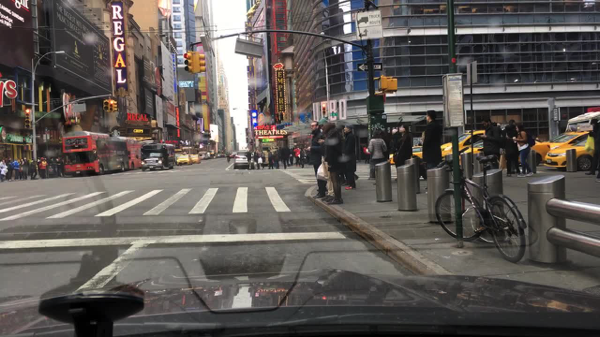bike: (227, 156, 230, 163)
bus: (62, 132, 141, 176)
car: (457, 136, 550, 170), (543, 132, 594, 170), (435, 129, 486, 156), (541, 132, 582, 150), (563, 112, 599, 131), (387, 146, 425, 164), (234, 151, 252, 170), (177, 151, 191, 165), (199, 151, 209, 159), (190, 156, 201, 163), (215, 153, 225, 158), (209, 148, 214, 158), (231, 151, 237, 159)
person: (323, 124, 345, 205), (305, 121, 325, 198), (316, 117, 334, 200), (340, 126, 359, 191), (513, 126, 536, 178), (337, 125, 359, 179), (420, 110, 440, 169), (478, 116, 500, 168), (503, 118, 520, 173), (369, 132, 388, 179), (586, 118, 599, 178), (395, 125, 411, 168), (496, 128, 508, 175), (280, 146, 291, 169), (37, 159, 48, 179), (391, 130, 402, 148), (298, 148, 307, 169), (253, 150, 261, 172), (272, 147, 280, 169), (245, 150, 252, 175), (363, 143, 371, 164), (21, 159, 28, 182), (5, 158, 12, 181), (258, 151, 266, 171), (267, 149, 274, 171), (55, 157, 63, 176), (13, 160, 20, 179), (293, 146, 300, 165), (30, 160, 37, 178), (22, 156, 30, 169), (0, 159, 5, 179), (49, 156, 54, 173), (17, 159, 22, 174)
rider: (225, 149, 229, 157)
traffic light: (195, 52, 206, 74), (183, 52, 192, 74), (375, 75, 385, 92), (386, 78, 397, 91), (24, 107, 30, 130), (103, 99, 109, 112), (112, 99, 118, 112), (107, 100, 113, 112), (321, 104, 325, 115), (228, 138, 231, 146)
traffic sign: (355, 10, 382, 41), (235, 37, 264, 58), (356, 63, 382, 72), (70, 103, 87, 113), (330, 112, 337, 118)
truck: (140, 142, 176, 170)
